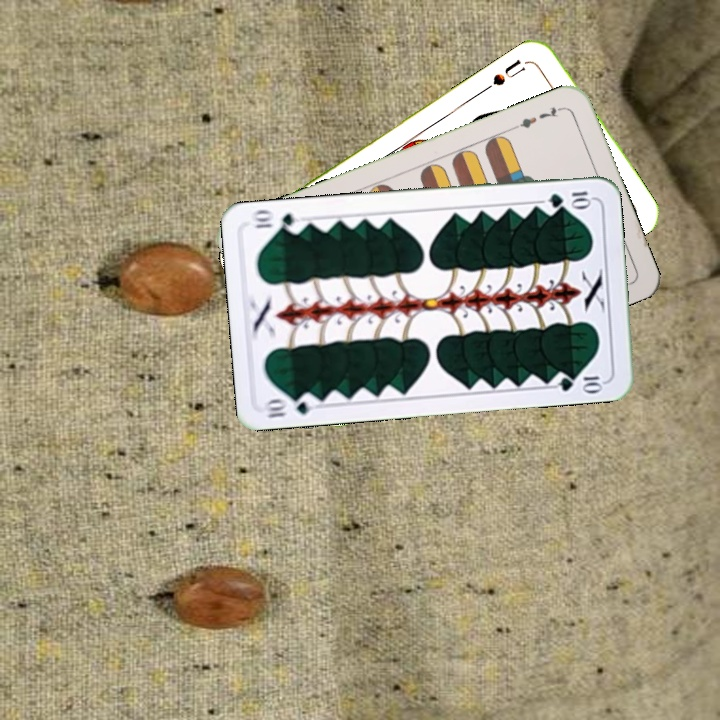E7: (509, 103, 566, 132)
G10: (263, 390, 320, 421), (544, 187, 594, 211)
SU: (488, 55, 528, 89)
